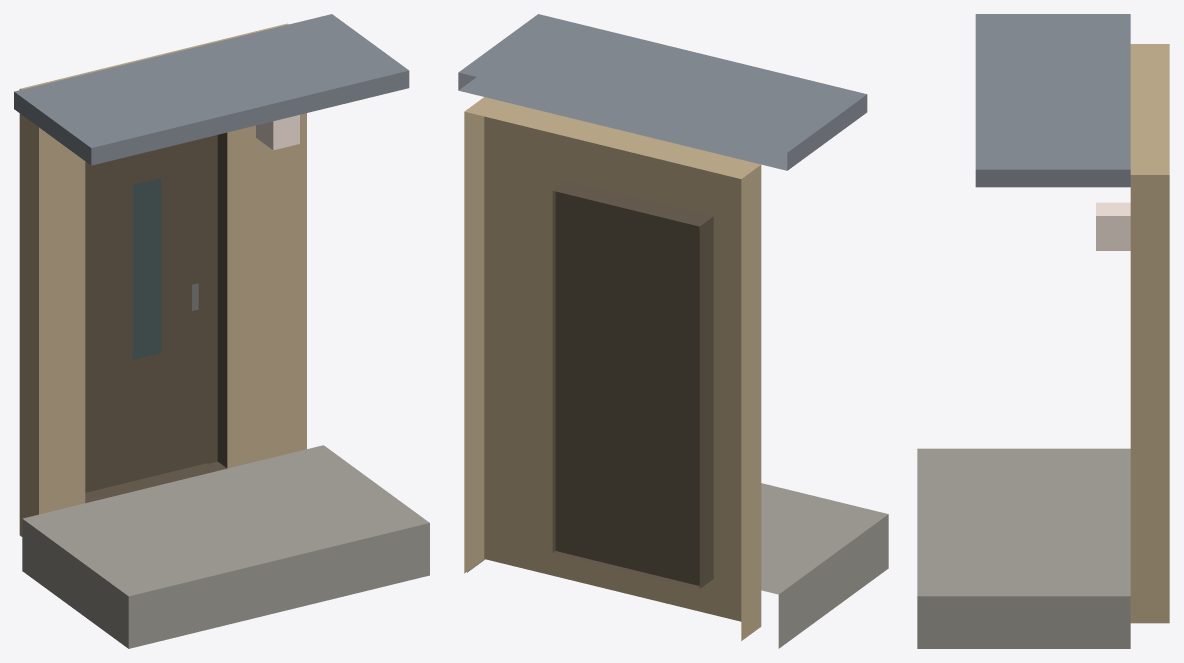
File: entrance.fbx
3 renders of one model, left to right at view 1: azimuth 30°, elevation 25°; view 2: azimuth 150°, elevation 25°; view 3: azimuth 270°, elevation 25°, orthographic. The views are drawn at different scales.
Parts seen in each view (by area): view 1: a2015/0/entrance; view 2: a2015/0/entrance; view 3: a2015/0/entrance.
Part boxes in pixels (x1,y1,x2,y2): a2015/0/entrance: [14, 14, 429, 648]; a2015/0/entrance: [458, 14, 888, 648]; a2015/0/entrance: [917, 14, 1169, 648].
Size of the model in its own units: 1.9 by 2.75 by 1.3.
